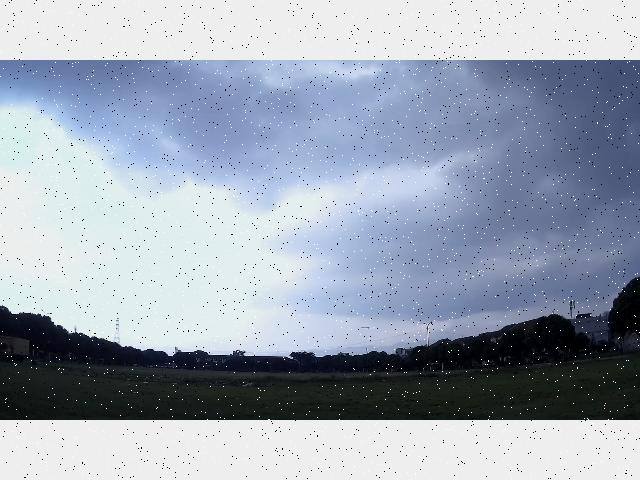Anti-Drone: (360, 327, 376, 329)
